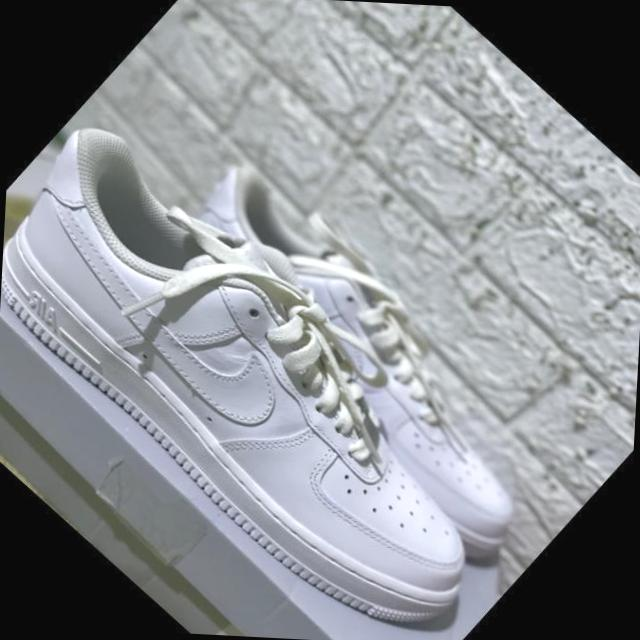nike_original_airforce: (0, 102, 563, 640), (107, 131, 602, 580)
